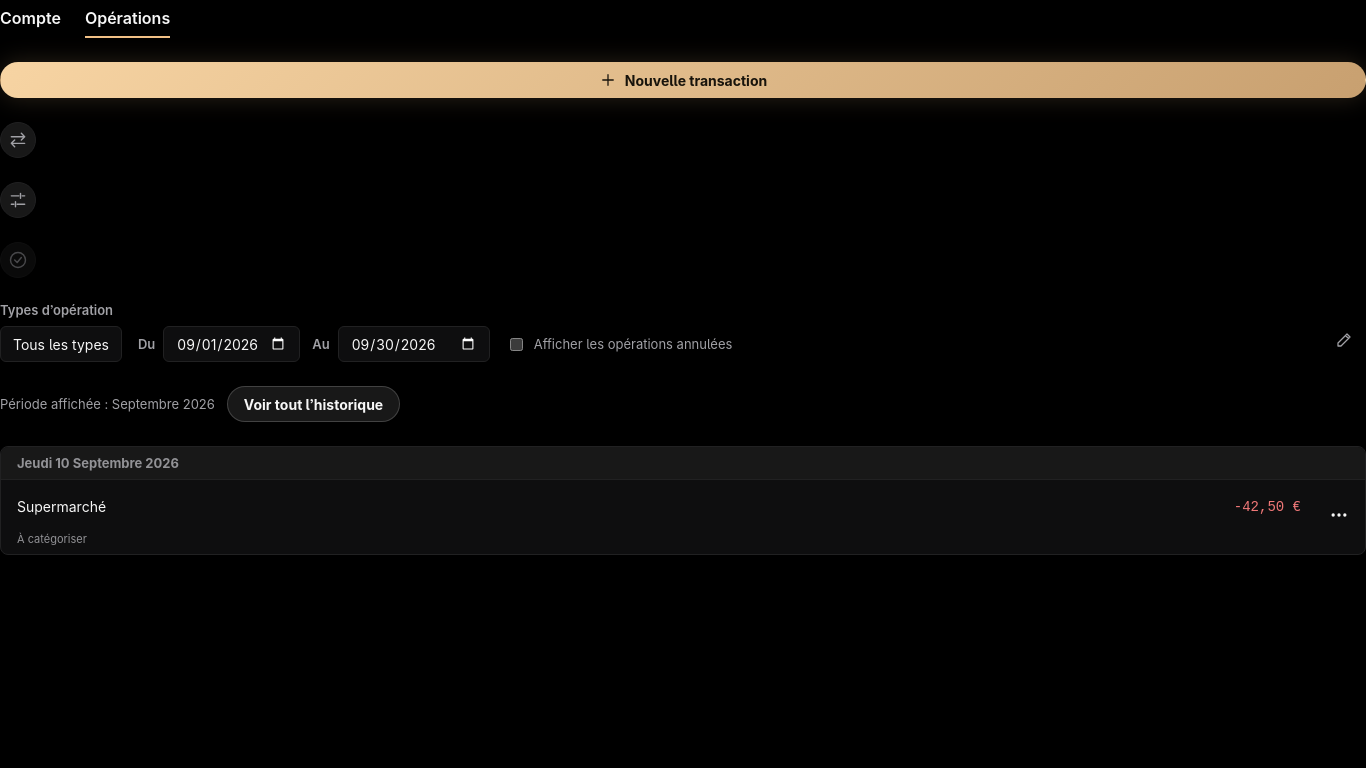
Test: AccountDetailPage › edits through the shared mutation, retains scope and removes a row moved to another period
expect the button "Supermarché" is shown: met, box [17,484,106,528]
Click the button named "Actions de la transaction « Supermarché »" at (1339, 515), box [1321,497,1357,533]
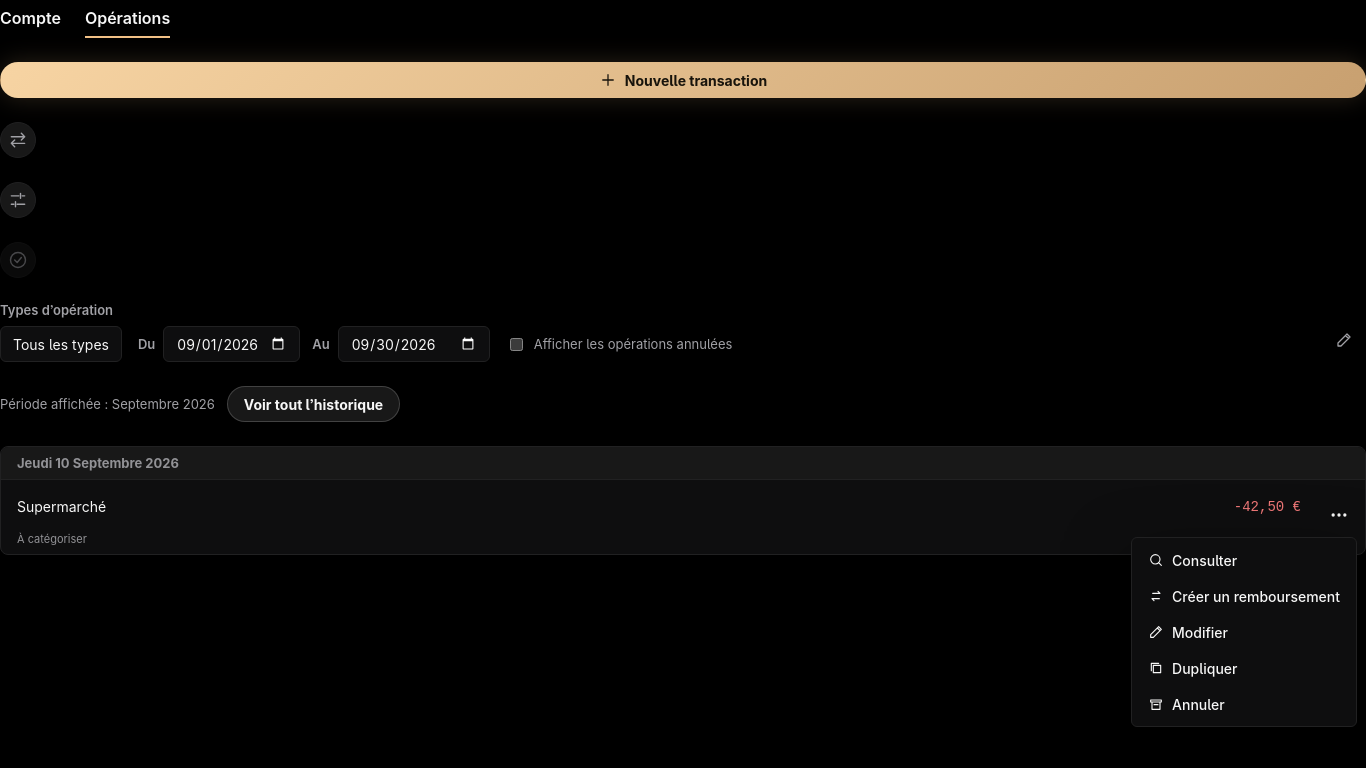
Click the button with aria-label "Modifier la transaction « Supermarché »" at (1244, 632), box [1136,614,1352,650]
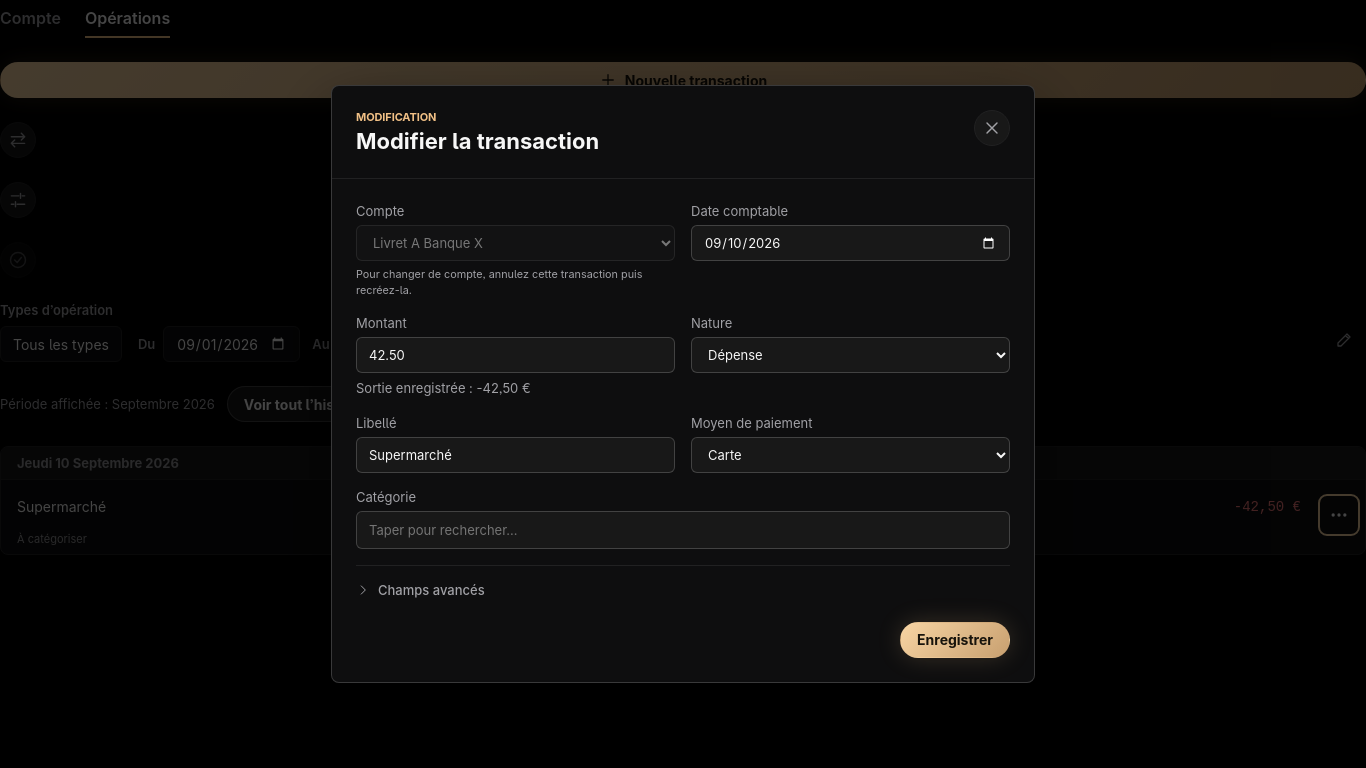
Type "2026-08-10" into the date field labelled "Date comptable" at (850, 243), box [691,225,1010,261]
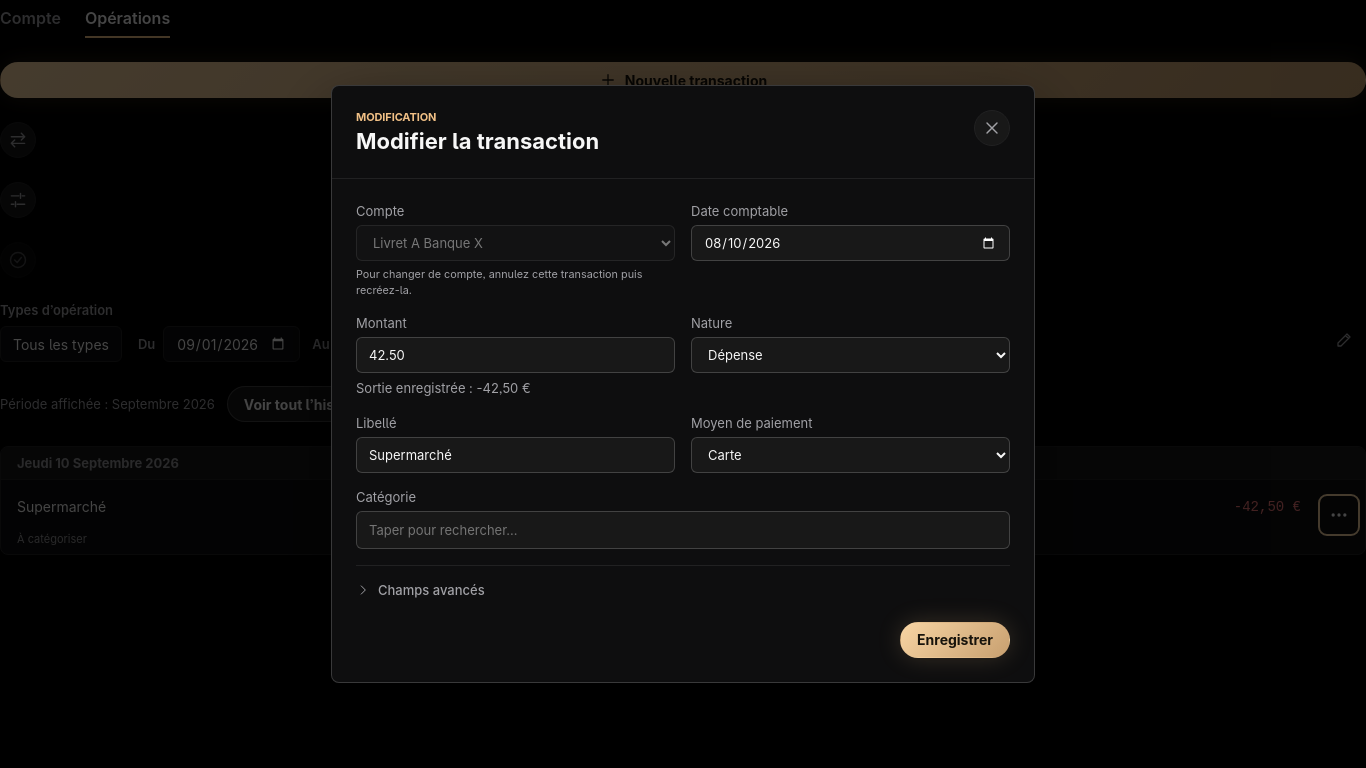
Click the button "Enregistrer" at (955, 640), box [900,622,1010,658]
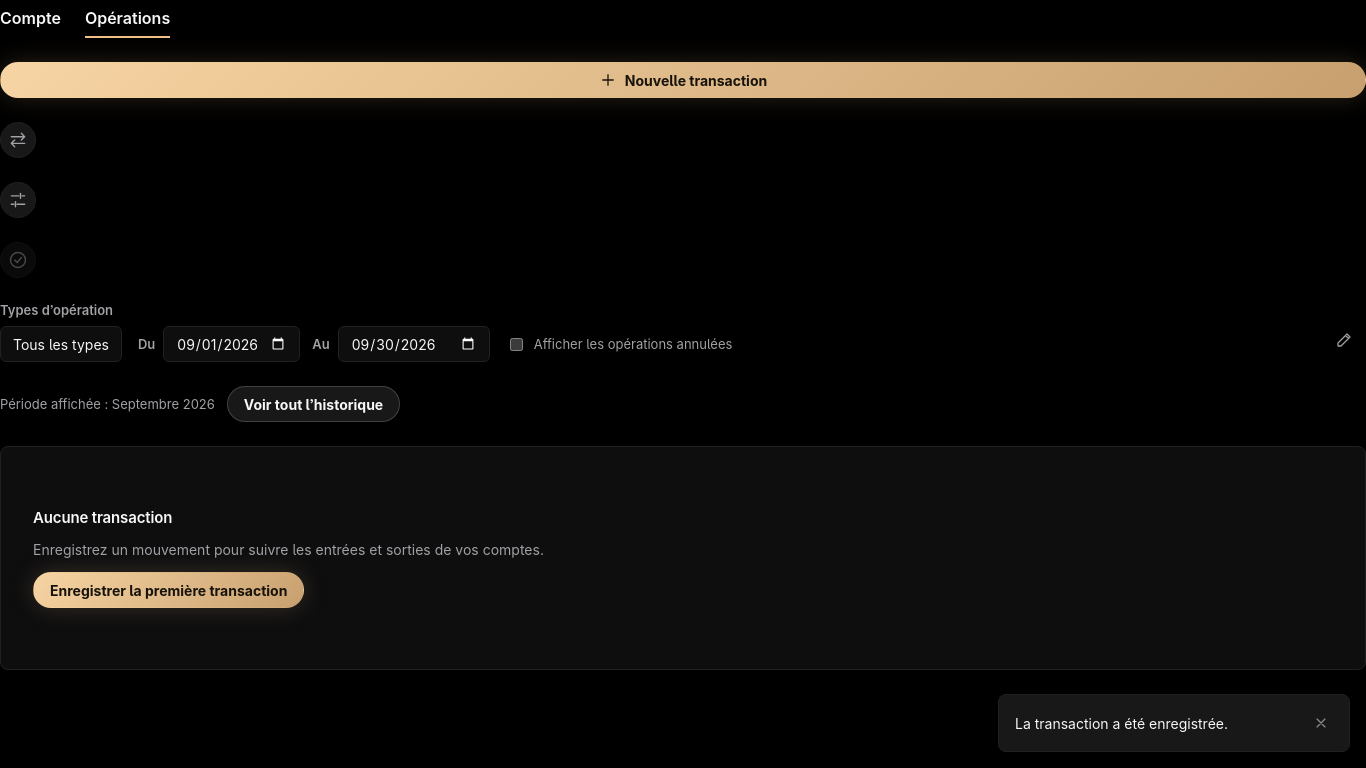
expect the button "Supermarché" is gone: met
